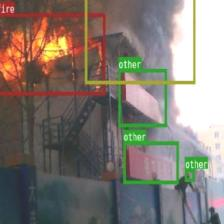fire: (0, 13, 105, 94)
smoke: (84, 0, 195, 83)
